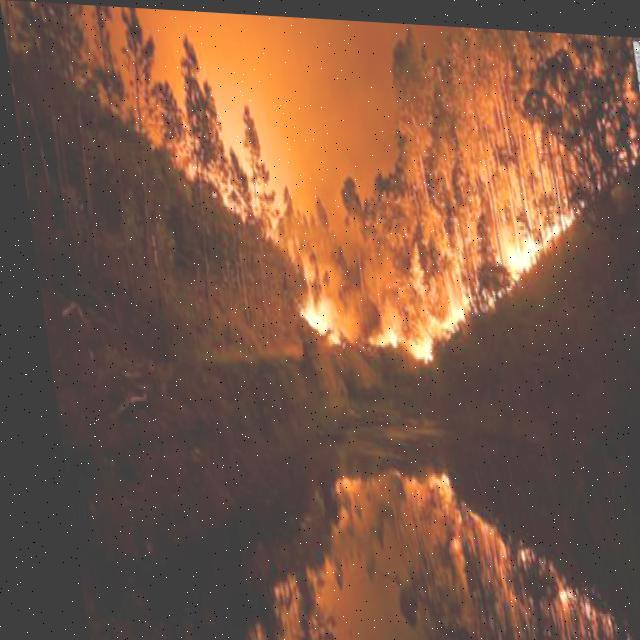Fire: (287, 274, 461, 363), (481, 196, 580, 278)
